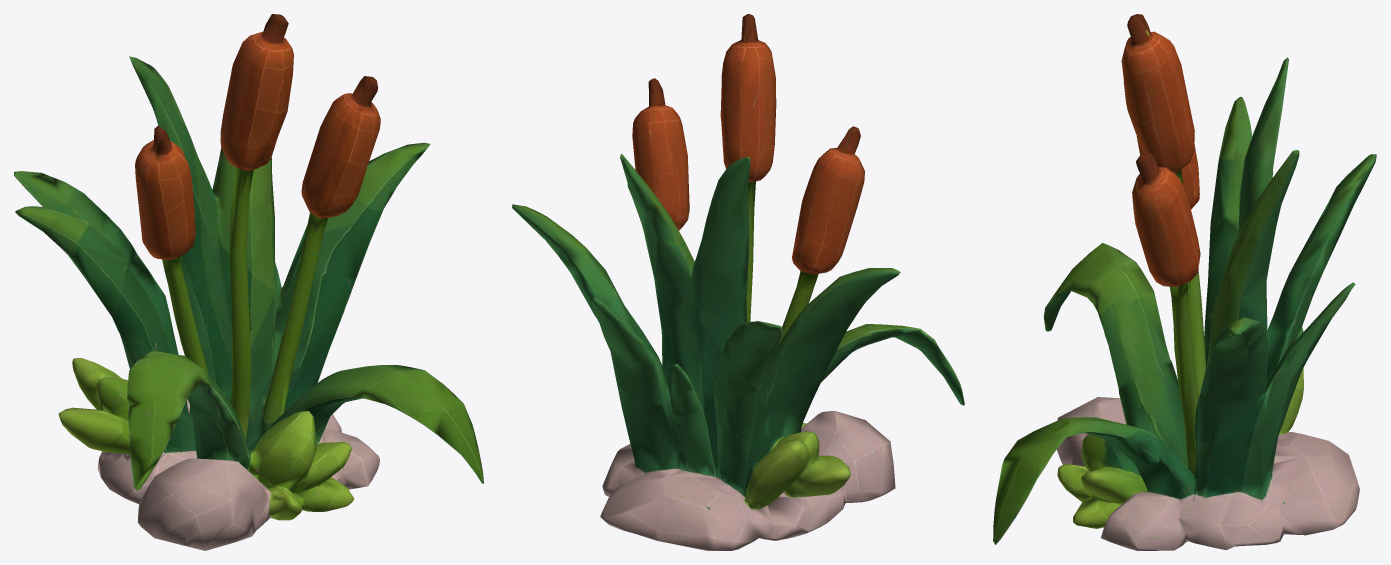
File: froggy-cattail-grove.glb
3 renders of one model, left to right at view 1: azimuth 30°, elevation 25°; view 2: azimuth 150°, elevation 25°; view 3: azimuth 270°, elevation 25°, orthographic. The views are drawn at different scales.
Bounding box in the file's own units: 1.69 × 1.9 × 1.33.
1 material, 1 textured.
